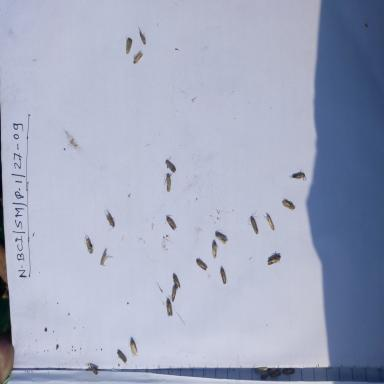pbw: (248, 209, 260, 235), (104, 207, 116, 232), (164, 213, 178, 232), (83, 234, 95, 256), (127, 338, 139, 358), (262, 213, 274, 232), (267, 251, 282, 266), (164, 156, 177, 173), (164, 295, 174, 317), (116, 349, 128, 367), (163, 172, 173, 193), (288, 171, 307, 182), (215, 230, 229, 244), (195, 256, 208, 271), (86, 364, 100, 377), (282, 198, 296, 211), (138, 24, 146, 46), (133, 49, 144, 65), (172, 273, 181, 291), (219, 266, 228, 284), (124, 35, 132, 55), (211, 241, 219, 260), (170, 284, 178, 302)
